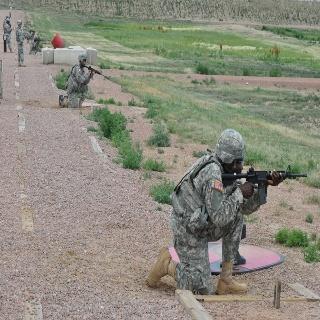rifle: (220, 165, 307, 207), (82, 63, 108, 83)
